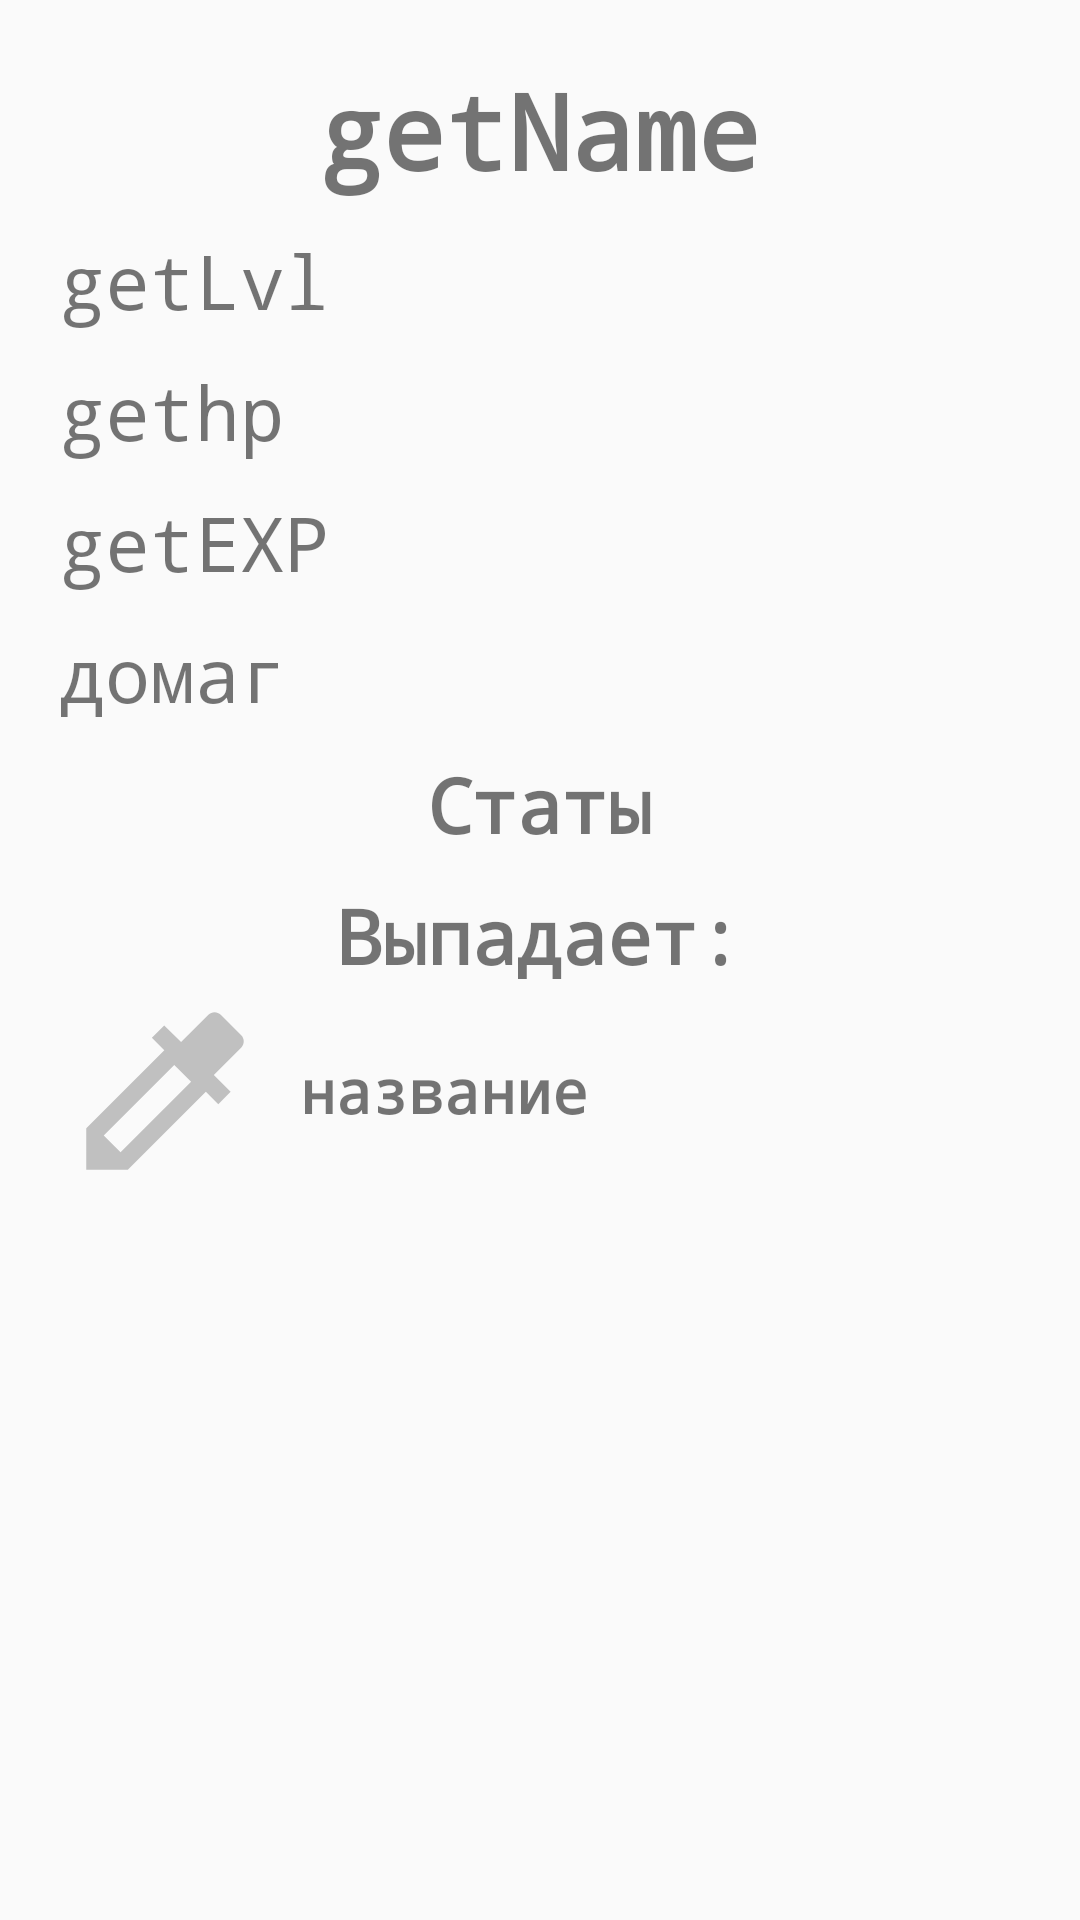

Icon bounding boxes for this 1080 × 1920 phone screenshot, format (x1, y1, x2, y2):
colorize: (86, 1012, 244, 1170)
